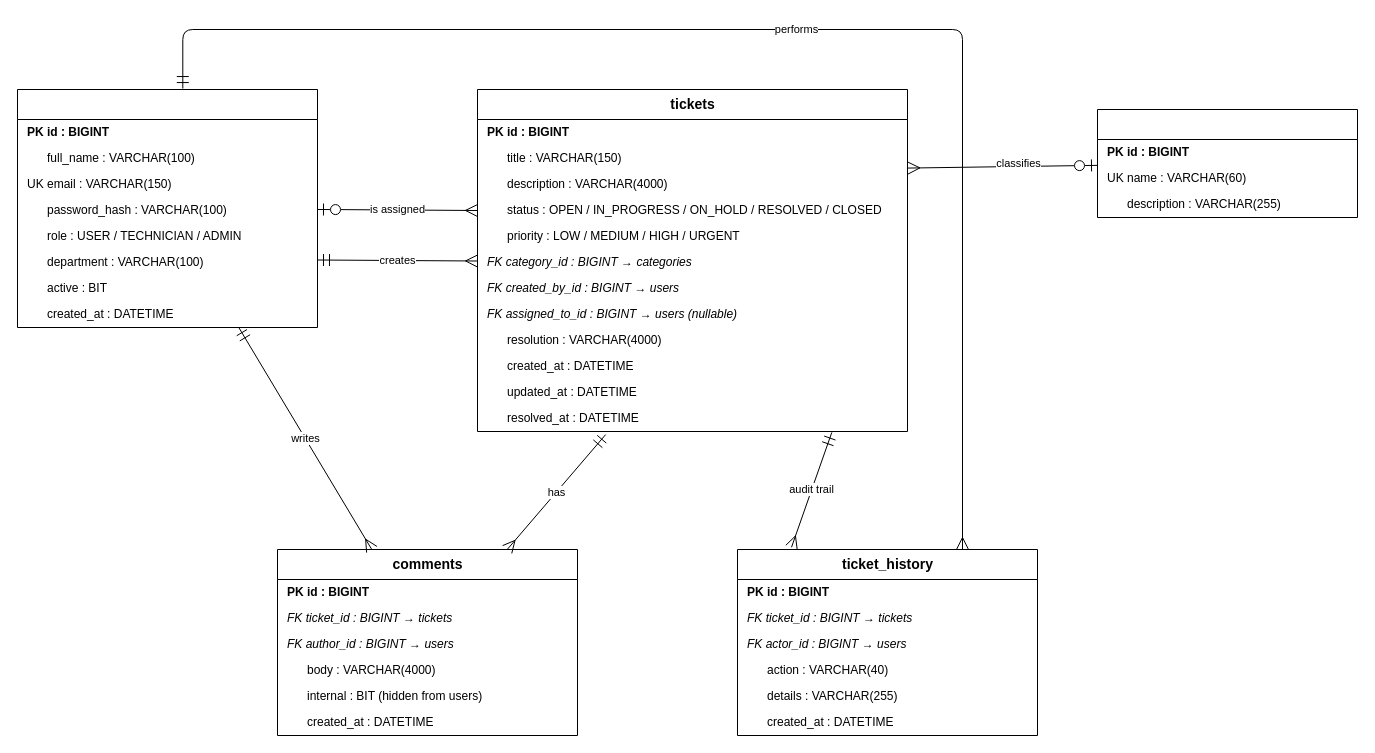
Image size: 1375x753. Some labels were removed from this diagram. The shapes that lost their labels are listed below. From the top down, each one's box as (x1, y1, x2, y2) in pixels, then its label:
(1096, 108, 1358, 218): categories
(16, 88, 318, 328): users
